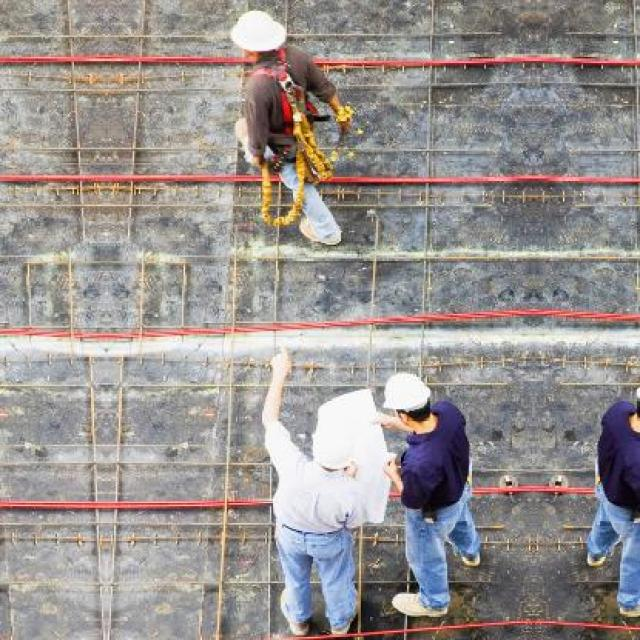helmet: (226, 8, 284, 63), (383, 372, 436, 425), (308, 420, 359, 472)
